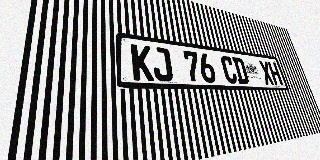6: (197, 52, 217, 83)
7: (182, 50, 203, 83)
C: (220, 55, 238, 84)
D: (232, 57, 250, 84)
H: (267, 61, 283, 85)
J: (151, 46, 174, 82)
K: (131, 44, 154, 81)
X: (258, 60, 275, 85)
